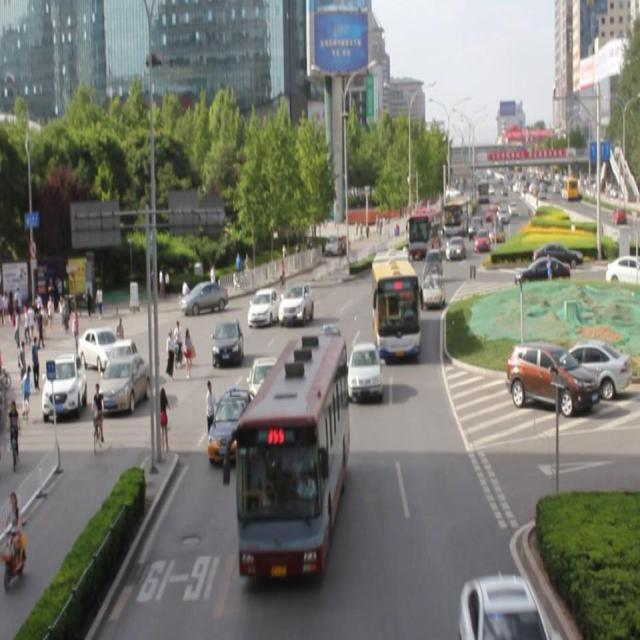car: (461, 573, 539, 640), (206, 384, 256, 468), (248, 356, 284, 417), (348, 342, 380, 399), (310, 324, 345, 374), (277, 280, 314, 326), (210, 317, 244, 367), (247, 285, 280, 327), (422, 271, 444, 307), (423, 248, 442, 282)
van: (239, 336, 346, 572), (371, 246, 418, 360)
